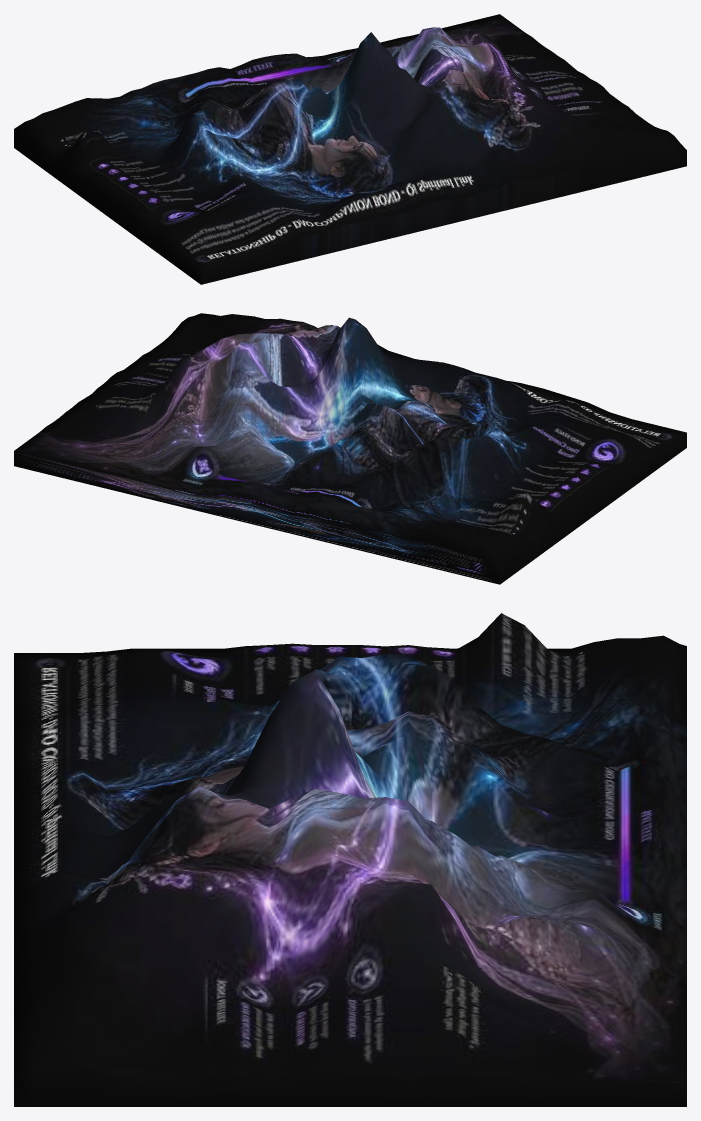
File: RELATIONSHIP_03_Dao_Companion_Bond.glb
The picture shows the model from 3 angles, top to bottom: view 1: azimuth 30°, elevation 25°; view 2: azimuth 150°, elevation 25°; view 3: azimuth 270°, elevation 25°; orthographic projection. The views are drawn at different scales.
Parts seen in each view (by area): view 1: RELATIONSHIP_03_Dao_Companion_Bond; view 2: RELATIONSHIP_03_Dao_Companion_Bond; view 3: RELATIONSHIP_03_Dao_Companion_Bond.
Boxes of the visible parts, x1,y1,x2,y2 form: RELATIONSHIP_03_Dao_Companion_Bond: [14, 14, 686, 284]; RELATIONSHIP_03_Dao_Companion_Bond: [14, 313, 686, 584]; RELATIONSHIP_03_Dao_Companion_Bond: [14, 613, 686, 1106].
Bounding box in the file's own units: 2 × 0.51 × 1.33.
1 material, 1 textured.
